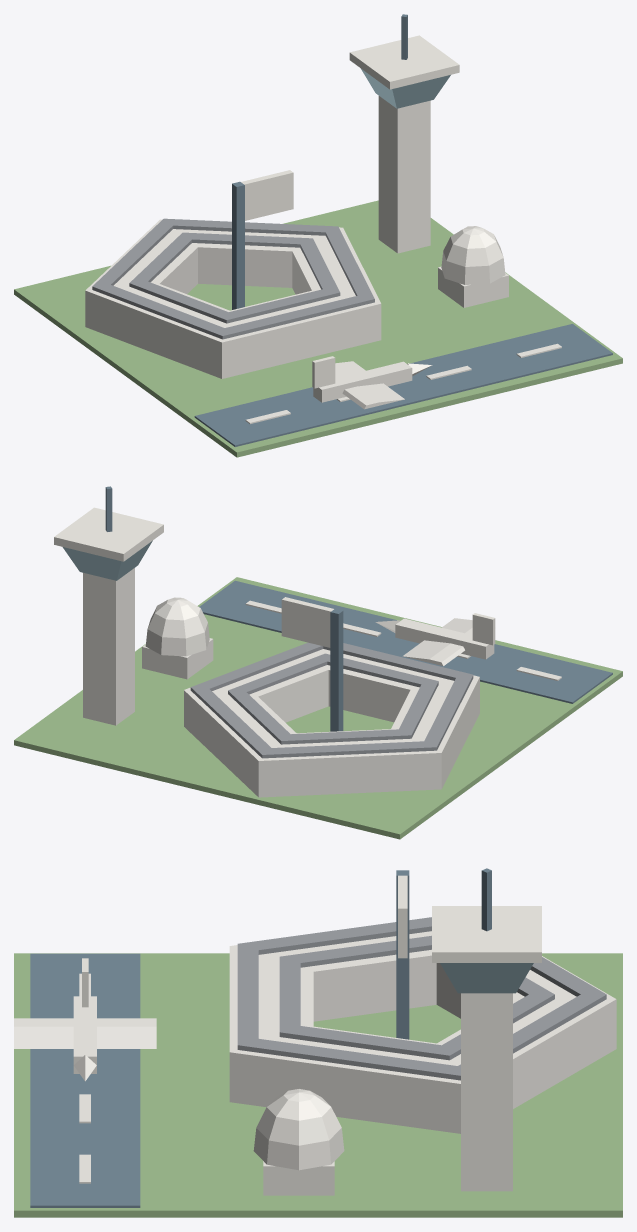
File: fort.glb
3 views of the same model, one above another, from view 1: azimuth 30°, elevation 25°; view 2: azimuth 150°, elevation 25°; view 3: azimuth 270°, elevation 25° (orthographic). The views are drawn at different scales.
Visible parts, largest first — view 1: western_modern_fort; view 2: western_modern_fort; view 3: western_modern_fort.
Boxes of the visible parts, <box> form: western_modern_fort: <box>14,14,622,457</box>; western_modern_fort: <box>14,486,622,839</box>; western_modern_fort: <box>14,868,622,1217</box>.
Size of the model in its own units: 0.94 by 0.54 by 0.94.
